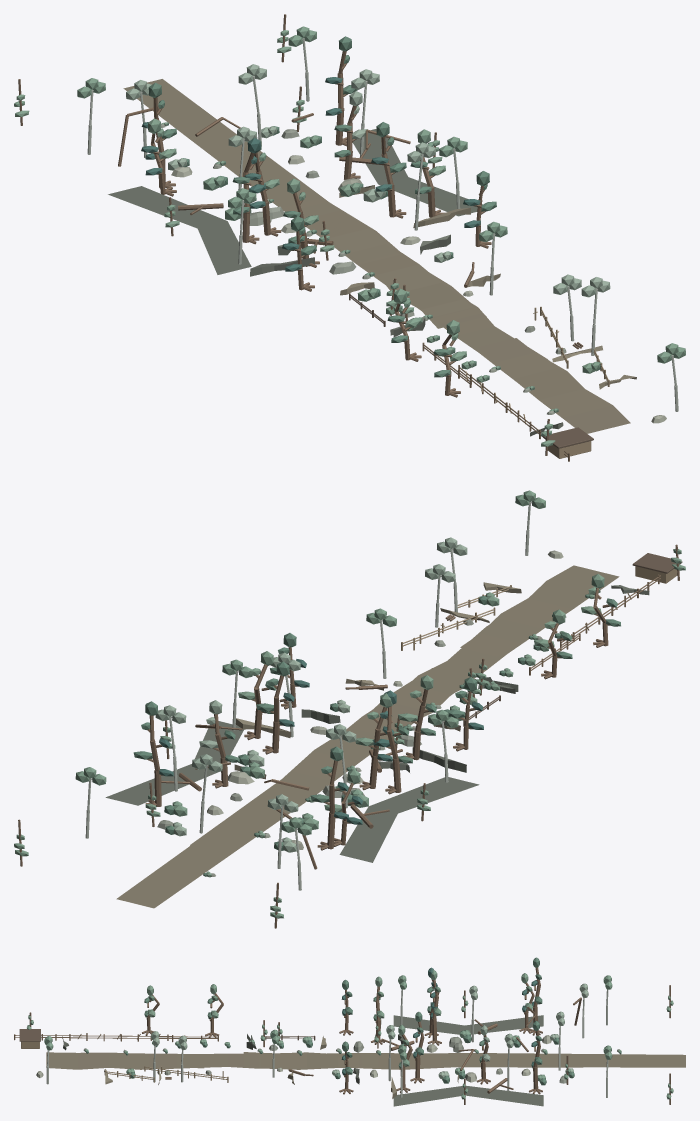
File: urman_act1_kara_zirat_environment.glb
The picture shows the model from 3 angles, top to bottom: view 1: azimuth 30°, elevation 25°; view 2: azimuth 150°, elevation 25°; view 3: azimuth 270°, elevation 25°; orthographic projection. The views are drawn at different scales.
Visible parts, largest first — view 1: KaraForestForward_RouteRelation_LOD0, KaraTransition_RouteRelation_LOD0, ZiratApproach_RouteRelation_LOD0, KaraForestLeft_SideGroundRelation_LOD0, KaraForestRight_SideGroundRelation_LOD0, ZiratQuietBoundary_RouteRelation_LOD0, KaraForestBack_RouteRelation_LOD0; view 2: KaraForestForward_RouteRelation_LOD0, ZiratApproach_RouteRelation_LOD0, KaraTransition_RouteRelation_LOD0, KaraForestLeft_SideGroundRelation_LOD0, KaraForestRight_SideGroundRelation_LOD0, ZiratQuietBoundary_RouteRelation_LOD0, KaraForestBack_RouteRelation_LOD0; view 3: KaraForestForward_RouteRelation_LOD0, ZiratApproach_RouteRelation_LOD0, KaraTransition_RouteRelation_LOD0, KaraForestRight_SideGroundRelation_LOD0, KaraForestLeft_SideGroundRelation_LOD0, ZiratQuietBoundary_RouteRelation_LOD0, KaraForestBack_RouteRelation_LOD0, ZiratApproach_ParcelShedRoof_LOD0.
Boxes of the visible parts, bbox=[...] form: KaraForestForward_RouteRelation_LOD0: bbox=[123, 79, 398, 250]; KaraTransition_RouteRelation_LOD0: bbox=[310, 210, 473, 328]; ZiratApproach_RouteRelation_LOD0: bbox=[478, 338, 630, 433]; KaraForestLeft_SideGroundRelation_LOD0: bbox=[108, 186, 251, 274]; KaraForestRight_SideGroundRelation_LOD0: bbox=[352, 128, 482, 216]; ZiratQuietBoundary_RouteRelation_LOD0: bbox=[419, 296, 566, 386]; KaraForestBack_RouteRelation_LOD0: bbox=[247, 142, 486, 326]; KaraForestForward_RouteRelation_LOD0: bbox=[116, 739, 362, 908]; ZiratApproach_RouteRelation_LOD0: bbox=[460, 565, 619, 656]; KaraTransition_RouteRelation_LOD0: bbox=[293, 677, 475, 780]; KaraForestLeft_SideGroundRelation_LOD0: bbox=[339, 777, 479, 862]; KaraForestRight_SideGroundRelation_LOD0: bbox=[105, 721, 244, 805]; ZiratQuietBoundary_RouteRelation_LOD0: bbox=[404, 610, 553, 695]; KaraForestBack_RouteRelation_LOD0: bbox=[190, 668, 473, 845]; KaraForestForward_RouteRelation_LOD0: bbox=[355, 1053, 685, 1069]; ZiratApproach_RouteRelation_LOD0: bbox=[46, 1052, 204, 1069]; KaraTransition_RouteRelation_LOD0: bbox=[243, 1052, 440, 1068]; KaraForestRight_SideGroundRelation_LOD0: bbox=[393, 1085, 543, 1106]; KaraForestLeft_SideGroundRelation_LOD0: bbox=[393, 1015, 543, 1034]; ZiratQuietBoundary_RouteRelation_LOD0: bbox=[133, 1053, 285, 1069]; KaraForestBack_RouteRelation_LOD0: bbox=[243, 1053, 582, 1069]; ZiratApproach_ParcelShedRoof_LOD0: bbox=[19, 1029, 40, 1041].
Size of what is drawn, in the model's own units: 27.59 by 10.26 by 85.08.
